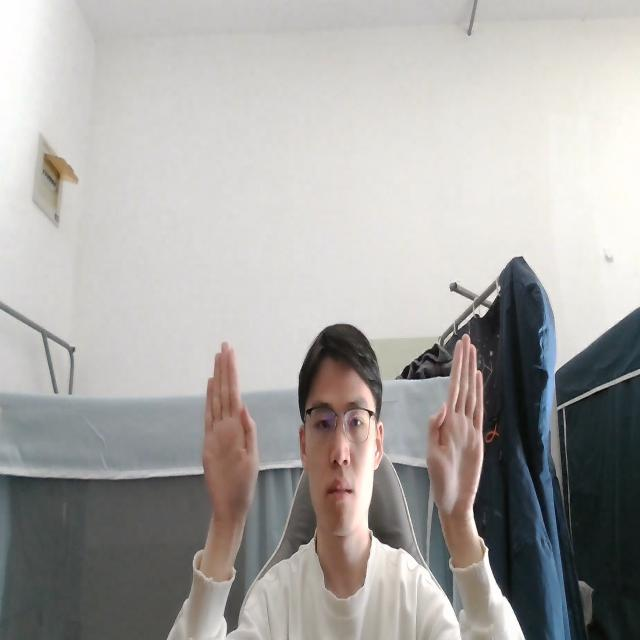five: (200, 338, 260, 535), (424, 331, 484, 527)
